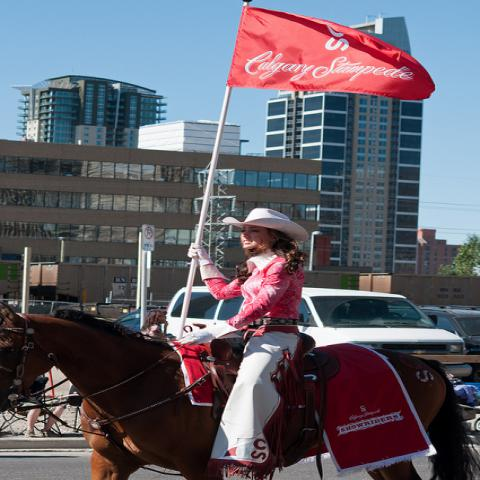car: (152, 283, 467, 374), (415, 304, 480, 354), (112, 311, 152, 330)
